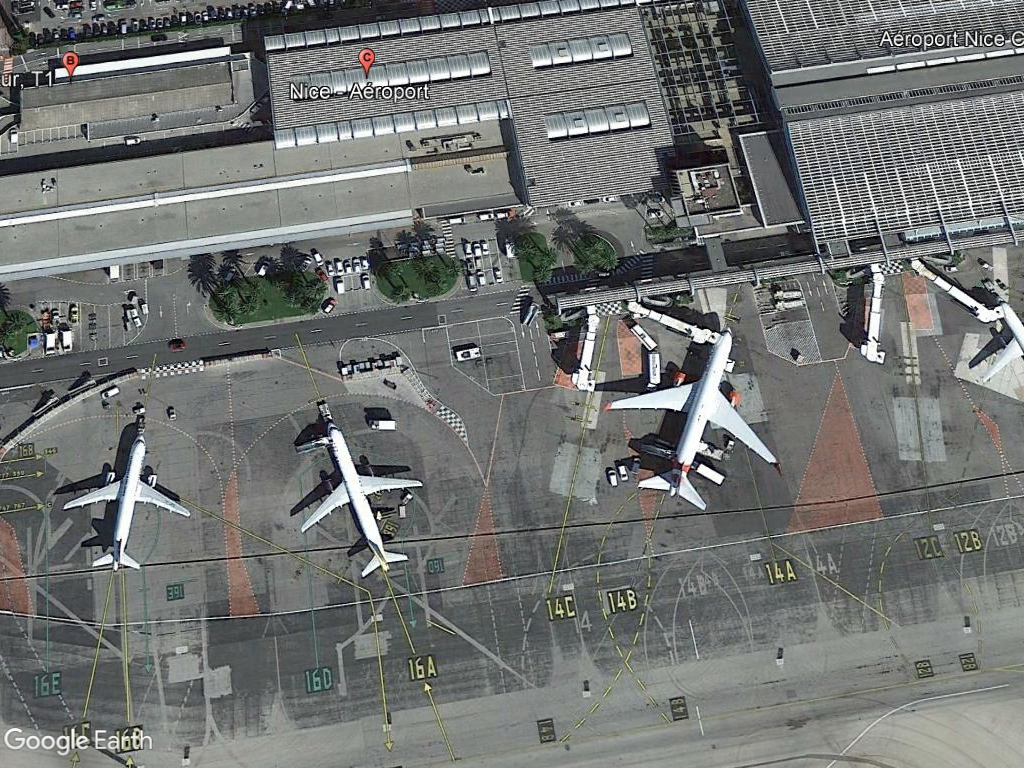airliner: (596, 322, 786, 516), (285, 420, 424, 578), (59, 435, 193, 574)
pushbacktruck: (449, 345, 487, 363)
